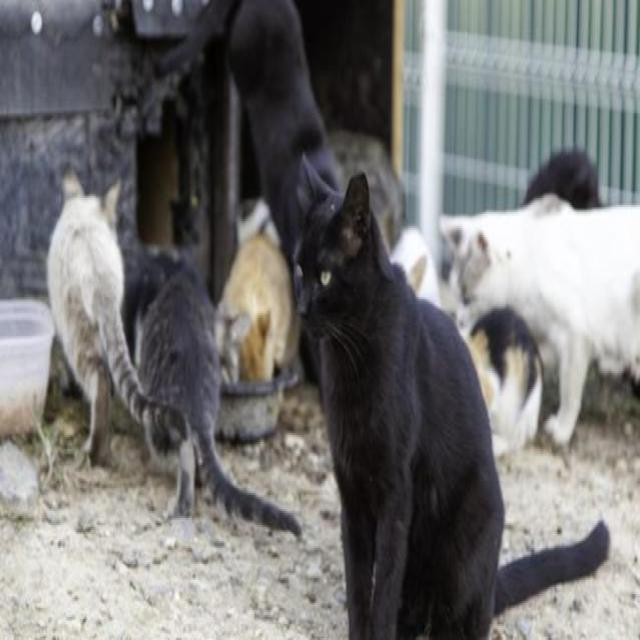cat: (295, 165, 609, 637), (440, 152, 640, 446), (139, 271, 301, 535), (48, 177, 149, 464), (216, 229, 299, 381), (468, 307, 542, 456), (124, 247, 201, 367), (329, 132, 404, 250), (390, 227, 441, 306)
